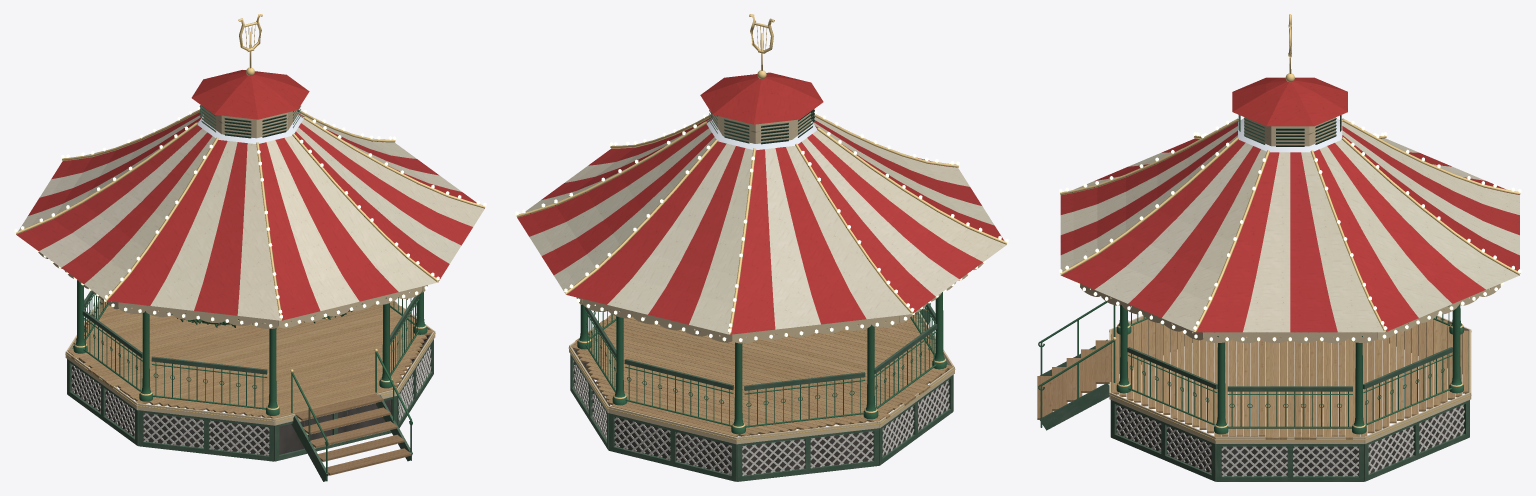
Rendered from bandstand.glb.
3 renders of one model, left to right at view 1: azimuth 30°, elevation 25°; view 2: azimuth 150°, elevation 25°; view 3: azimuth 270°, elevation 25°, orthographic. The views are drawn at different scales.
Visible parts, largest first — view 1: bs_roof, bs_floor, bs_paint, bs_iron, bs_gilt, bulbs_bandstand, snow_roof; view 2: bs_roof, bs_floor, bs_paint, bs_iron, bs_gilt, bulbs_bandstand, snow_roof; view 3: bs_roof, bs_floor, bs_paint, bs_iron, bs_gilt, bulbs_bandstand, snow_roof.
Boxes of the visible parts, box(x1,y1,x2,y2) form: bs_roof: box(16, 70, 484, 320); bs_floor: box(67, 299, 433, 475); bs_paint: box(38, 105, 435, 481); bs_iron: box(73, 280, 427, 481); bs_gilt: box(16, 14, 485, 410); bulbs_bandstand: box(14, 106, 486, 327); snow_roof: box(198, 115, 303, 143); bs_roof: box(517, 72, 1006, 334); bs_floor: box(570, 308, 953, 436); bs_paint: box(568, 109, 983, 481); bs_iron: box(577, 292, 946, 434); bs_gilt: box(516, 14, 1006, 428); bulbs_bandstand: box(515, 110, 1008, 341); snow_roof: box(706, 119, 816, 150); bs_roof: box(1060, 77, 1519, 332); bs_floor: box(1037, 315, 1468, 439); bs_paint: box(1039, 115, 1500, 481); bs_iron: box(1038, 297, 1463, 434); bs_gilt: box(1060, 14, 1520, 428); bulbs_bandstand: box(1059, 120, 1521, 341); snow_roof: box(1238, 118, 1342, 152).
Bounding box in the file's own units: 8.87 × 8.22 × 9.28.
9 materials, 3 textured.
